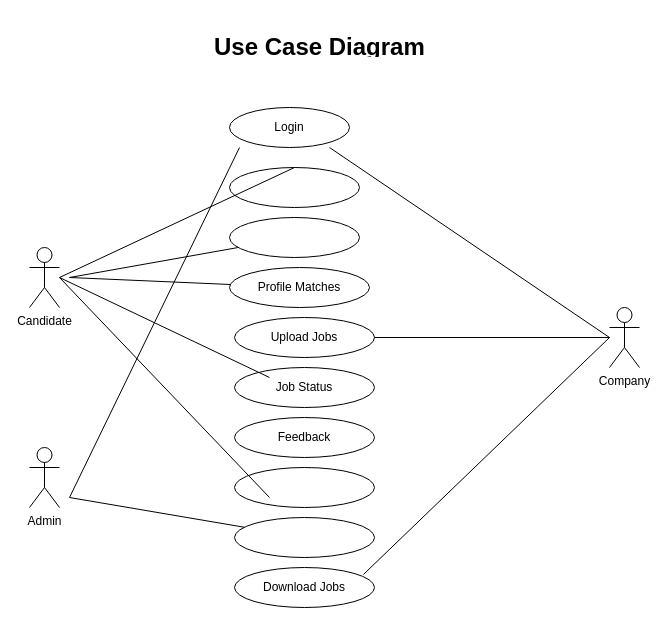
Some shapes in this 667 by 625 pixel diagram are drawn without their labels. The shapes that lost their labels are listed below. From the top down, each one's centre as x and y in pixels, then its label:
At (x=294, y=187): "Register".
At (x=294, y=237): "Search Jobs".
At (x=304, y=487): "Apply Jobs".
At (x=304, y=537): "Approve Jobs".
